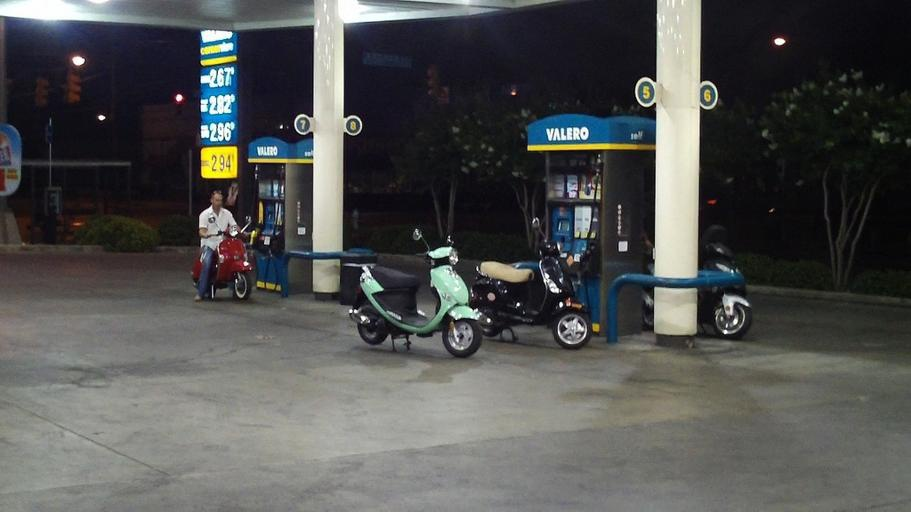non-vehicle: (347, 226, 485, 359), (468, 212, 597, 349), (640, 234, 758, 342), (185, 215, 258, 306)
